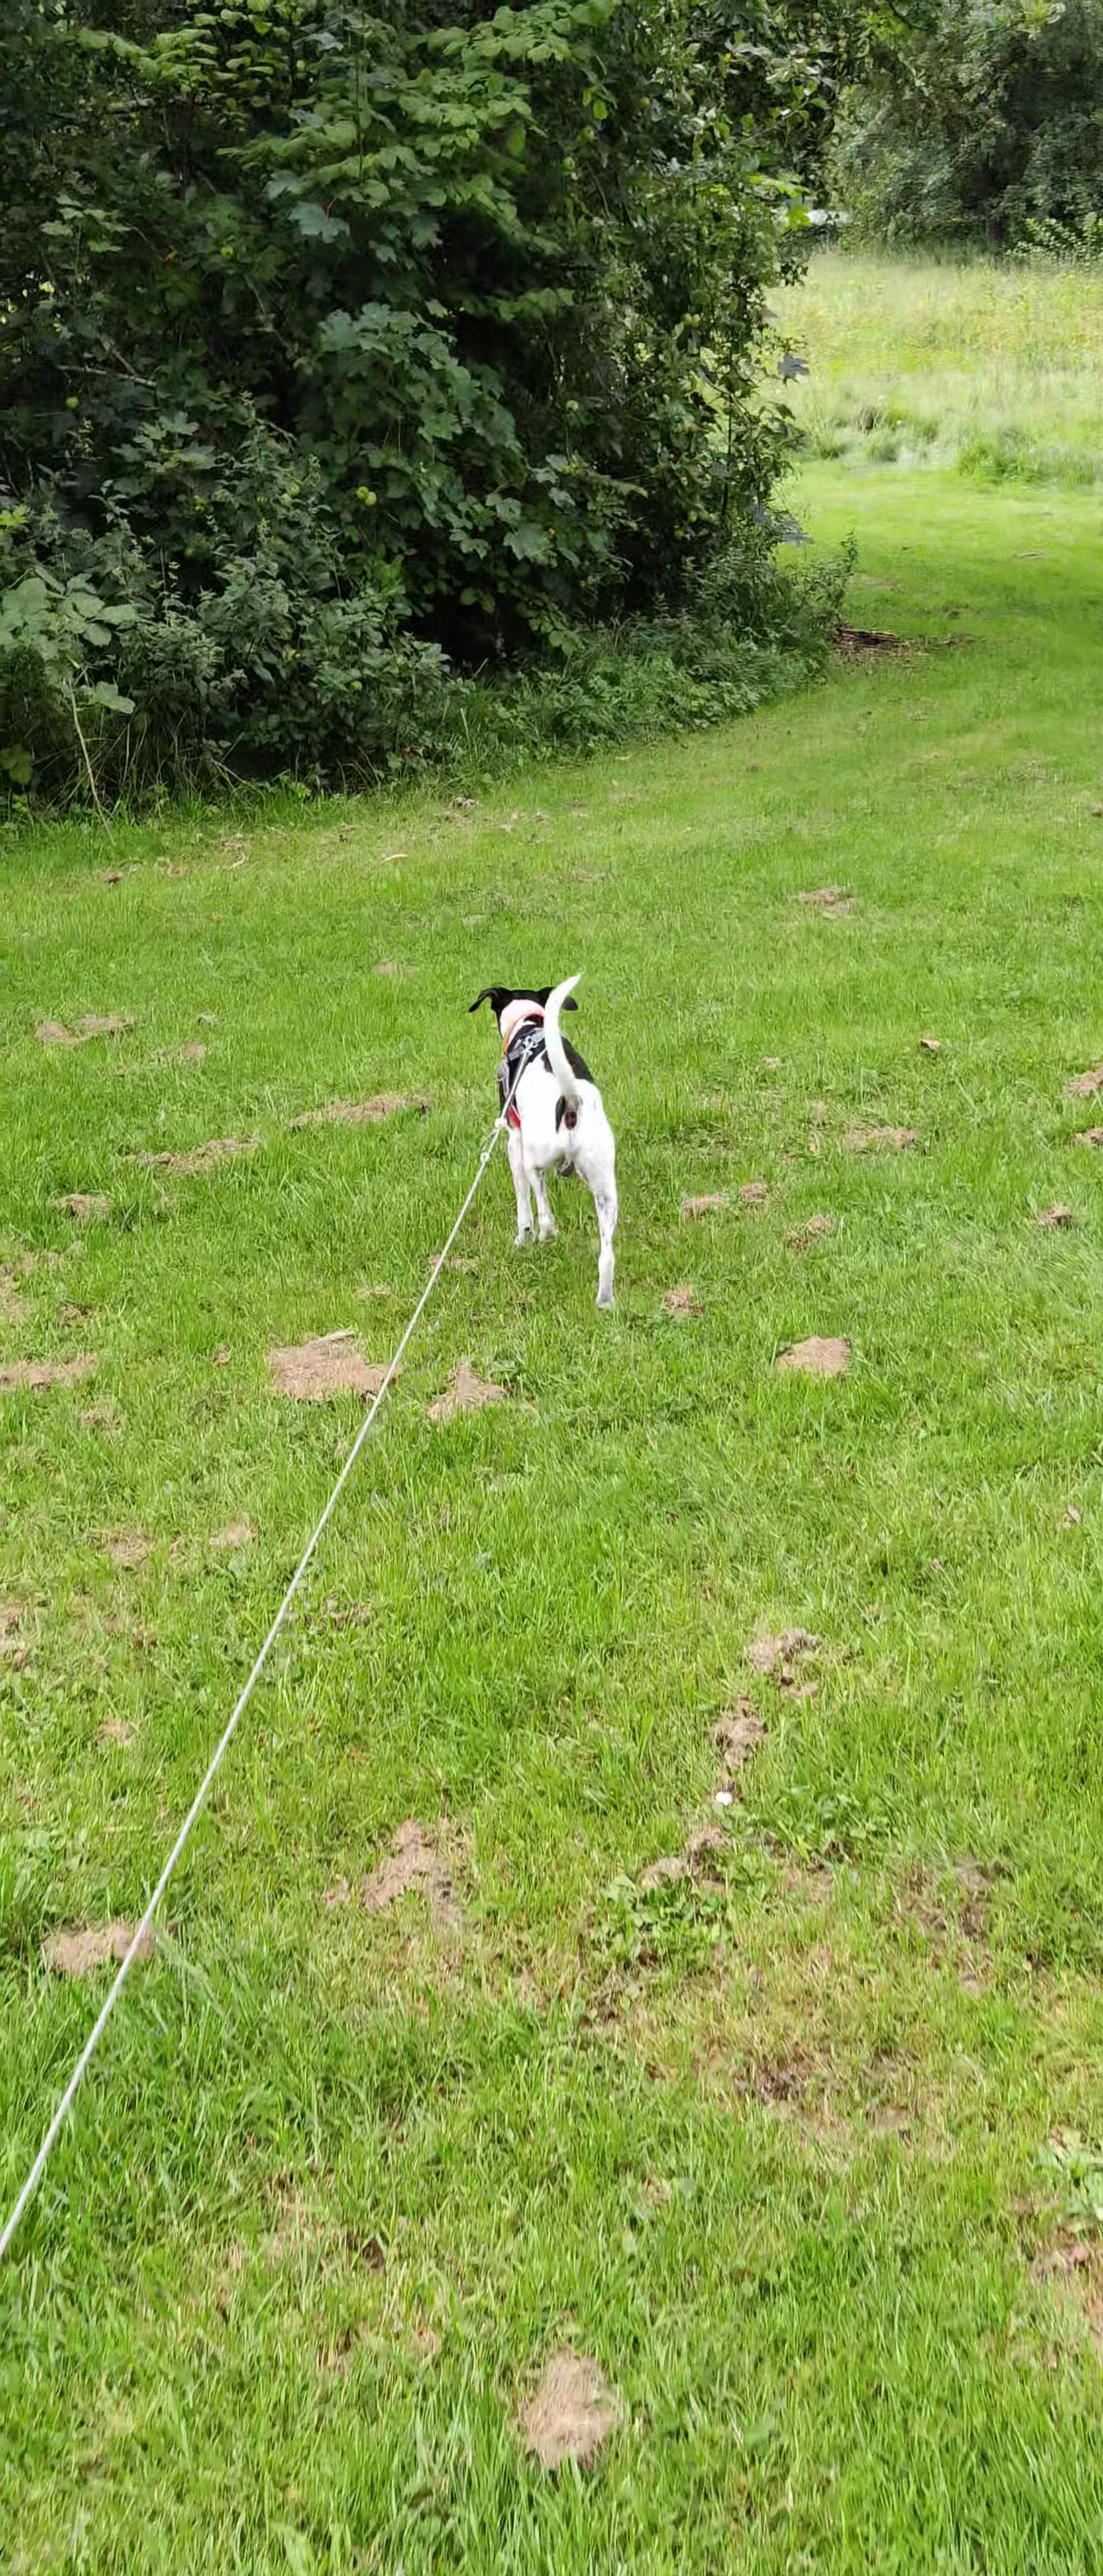Dog: (460, 963, 630, 1318)
